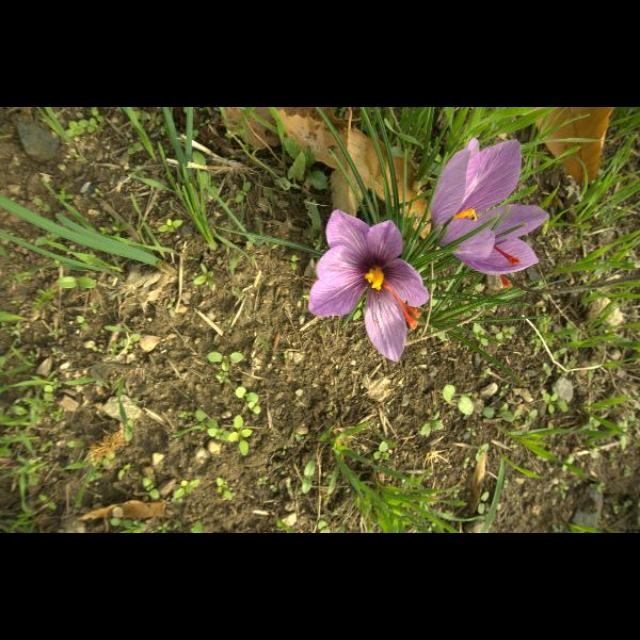flower: (309, 209, 431, 363), (431, 139, 552, 287)
